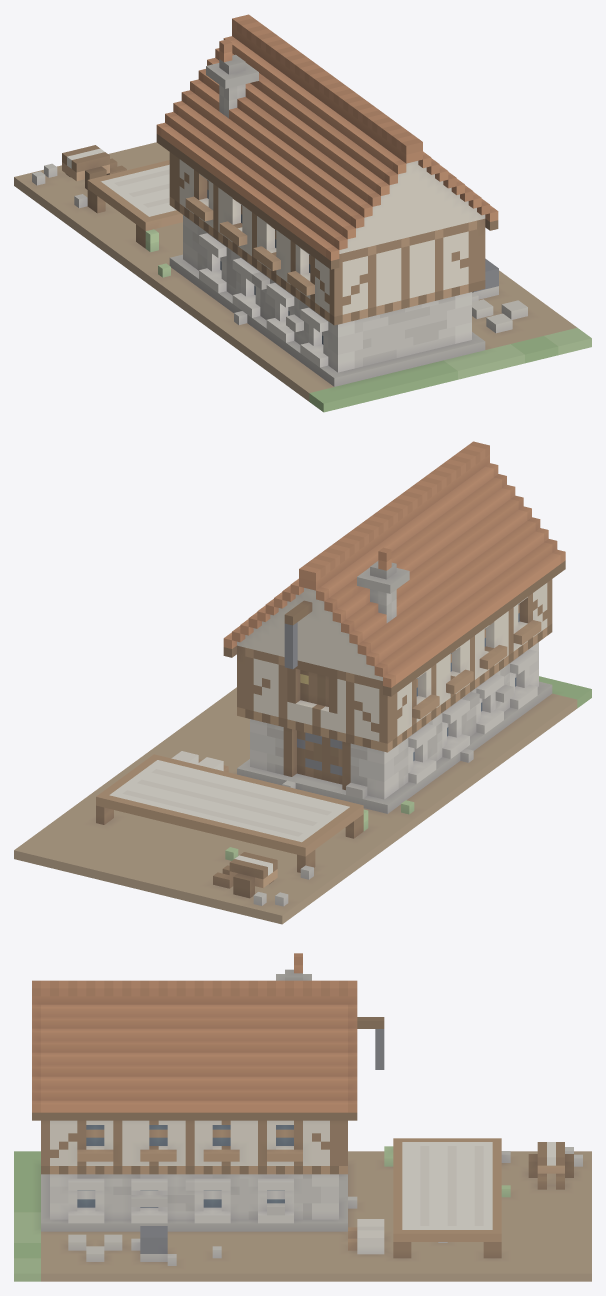
Rendered from sailmaker.glb.
3 views of the same model, one above another, from view 1: azimuth 30°, elevation 25°; view 2: azimuth 150°, elevation 25°; view 3: azimuth 270°, elevation 25° (orthographic). The views are drawn at different scales.
Parts seen in each view (by area): view 1: sailmaker; view 2: sailmaker; view 3: sailmaker.
Part boxes in pixels (bbox=[...]): sailmaker: bbox=[14, 14, 591, 412]; sailmaker: bbox=[14, 441, 591, 924]; sailmaker: bbox=[14, 953, 591, 1281].
Size of the model in its own units: 4 by 3.5 by 8.
